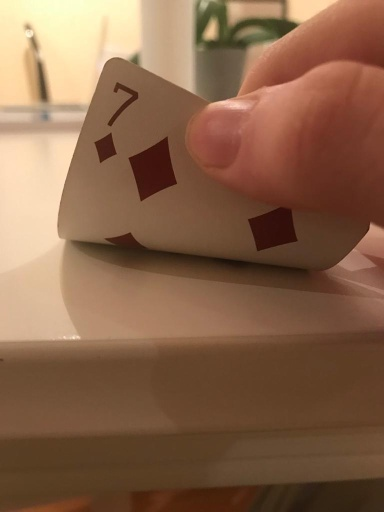D7: (92, 78, 139, 168)
